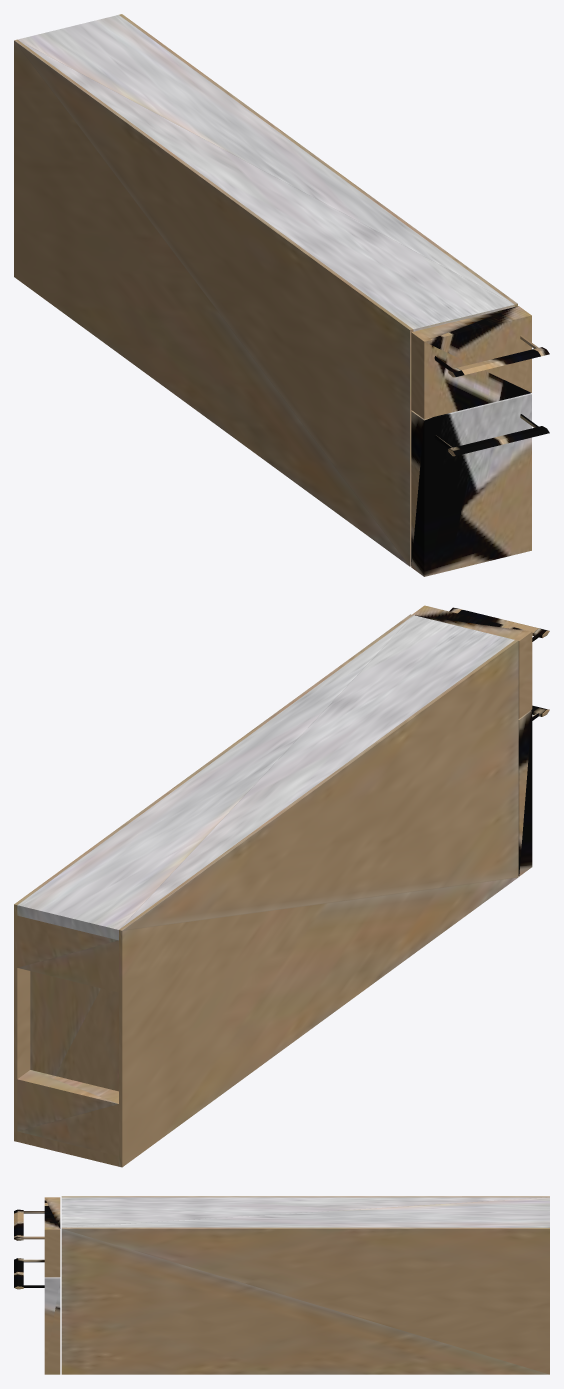
Rendered from cabinet_0.glb.
The picture shows the model from 3 angles, top to bottom: view 1: azimuth 30°, elevation 25°; view 2: azimuth 150°, elevation 25°; view 3: azimuth 270°, elevation 25°; orthographic projection. The views are drawn at different scales.
Parts seen in each view (by area): view 1: cabinet_0; view 2: cabinet_0; view 3: cabinet_0.
Part boxes in pixels (bbox=[...]): cabinet_0: bbox=[14, 14, 549, 576]; cabinet_0: bbox=[14, 605, 549, 1167]; cabinet_0: bbox=[14, 1196, 549, 1374].
Size of the model in its own units: 0.4494 by 0.9394 by 3.13.
Materials: 1 (1 with a texture image).
